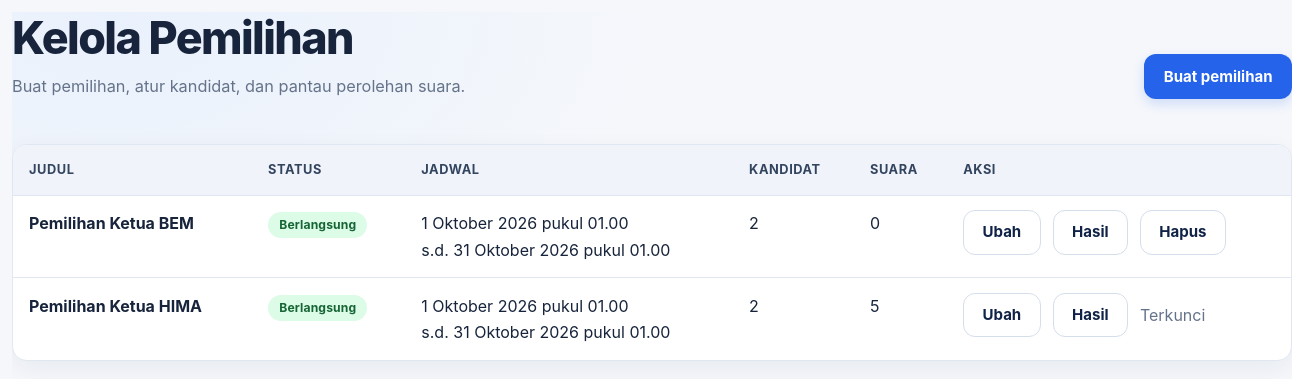
Test: AdminDashboardPage › menampilkan tabel pemilihan dan menghapus pemilihan tanpa suara
The image size is (1292, 379).
Check: the text "Terkunci" is shown, box [1140,302,1205,328]
Click the button named "hapus pemilihan ketua bem" at coordinates (1183, 232), box [1140,210,1226,255]
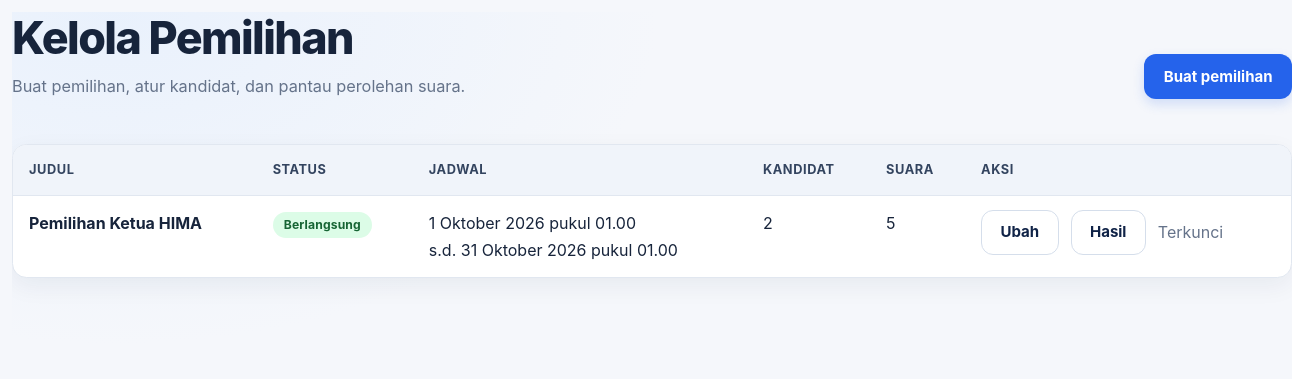
Check: the column heading "Pemilihan Ketua BEM" is gone
